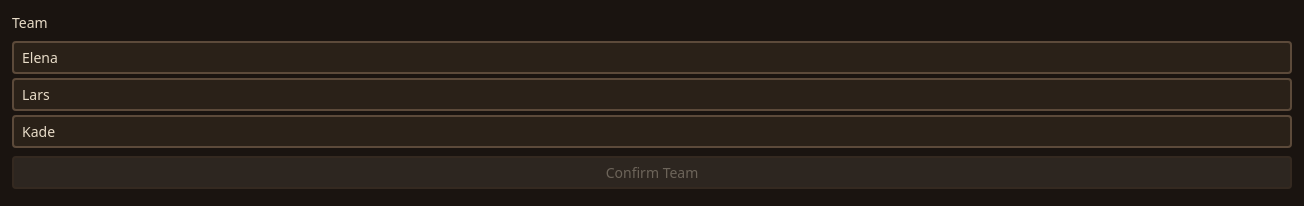
it: TeamSelector › shows Setting... text during submit
Click the button "Elena": point(40, 58) x1=12 y1=41 x2=1292 y2=74
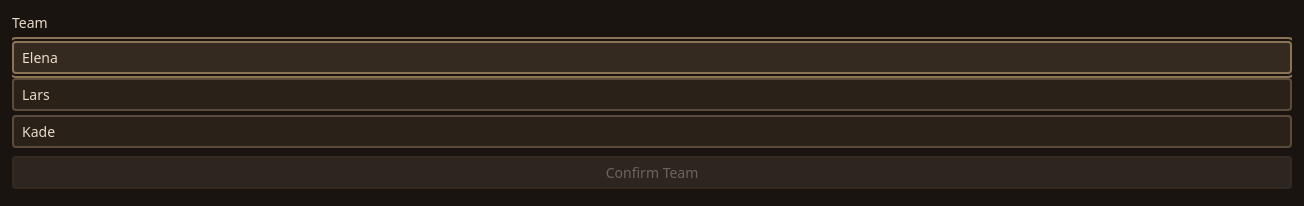
Click the button "Lars": point(36, 94) x1=12 y1=78 x2=1292 y2=111
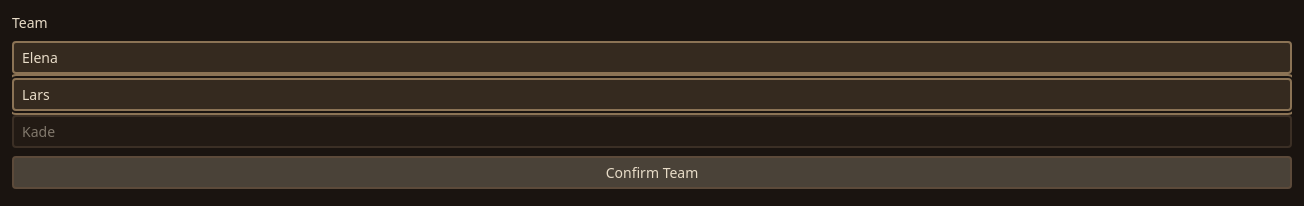
Click the button "Confirm Team": point(652, 172) x1=12 y1=156 x2=1292 y2=189
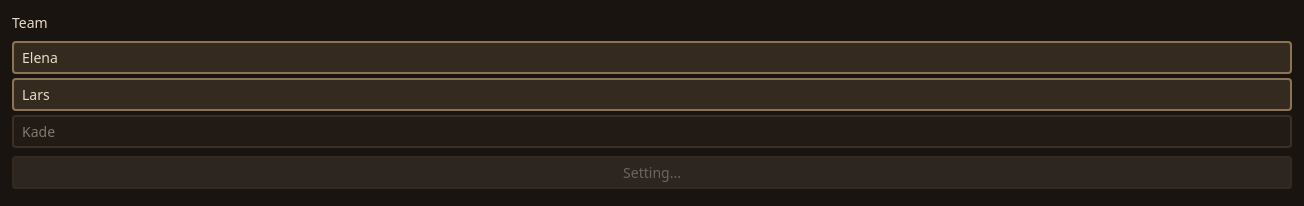
Expected: the button "Setting..." is shown, x1=12 y1=156 x2=1292 y2=189
